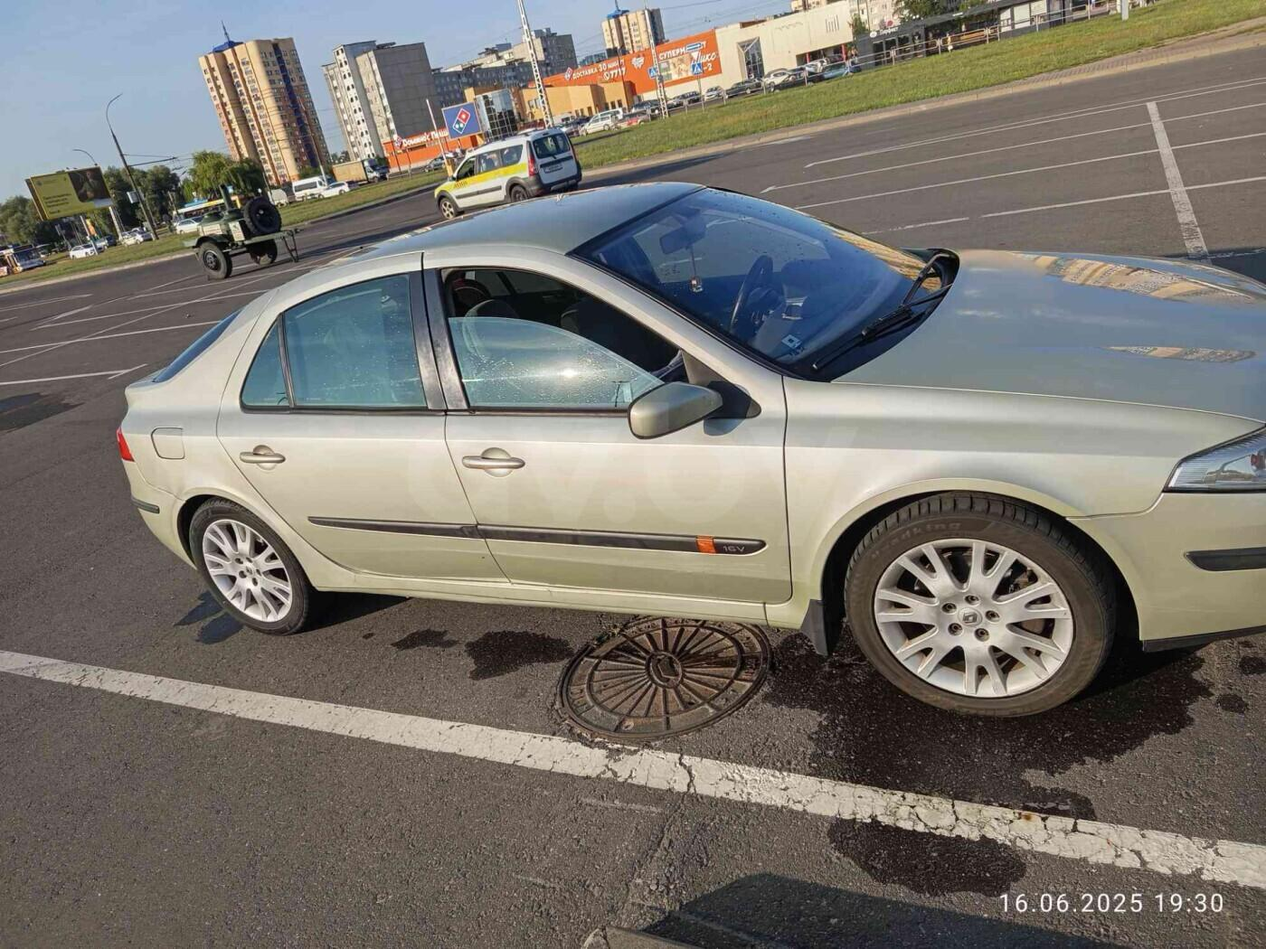Laguna_2001-2005: (118, 177, 1265, 715)
